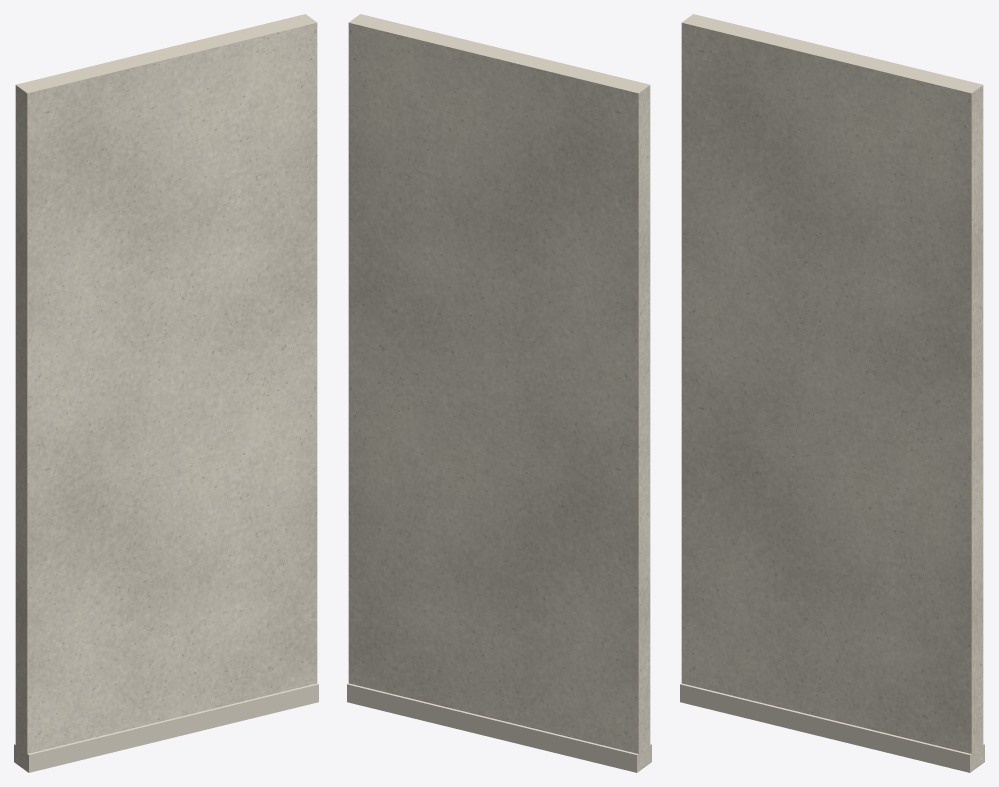
The model's file is interior_wall_end.glb.
The picture shows the model from 3 angles, left to right: view 1: azimuth 30°, elevation 25°; view 2: azimuth 150°, elevation 25°; view 3: azimuth 330°, elevation 25°; orthographic projection.
Parts seen in each view (by area): view 1: interior_wall_end_plaster, interior_wall_end_trim; view 2: interior_wall_end_plaster, interior_wall_end_trim; view 3: interior_wall_end_plaster, interior_wall_end_trim.
Part boxes in pixels (<box>): interior_wall_end_plaster: <box>15,14,317,771</box>; interior_wall_end_trim: <box>14,683,318,772</box>; interior_wall_end_plaster: <box>348,14,650,771</box>; interior_wall_end_trim: <box>347,683,651,772</box>; interior_wall_end_plaster: <box>681,14,983,771</box>; interior_wall_end_trim: <box>680,683,984,772</box>.
Size of the model in its own units: 1.7 by 3.8 by 0.15.
2 materials, 1 textured.
